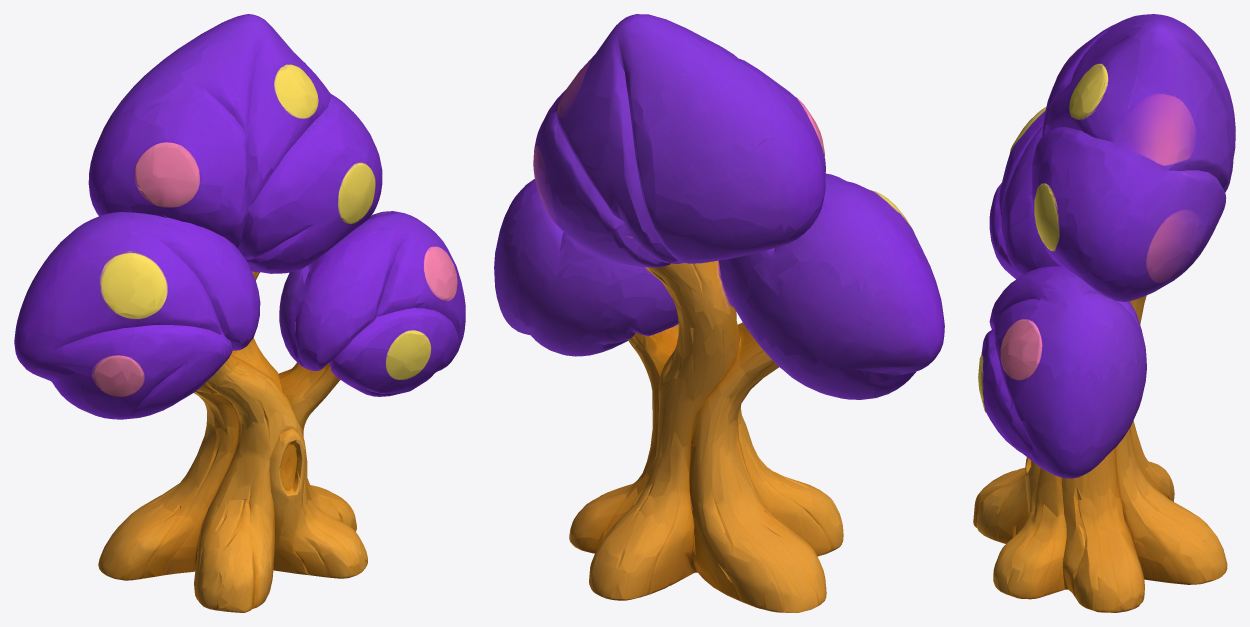
3 renders of one model, left to right at view 1: azimuth 30°, elevation 25°; view 2: azimuth 150°, elevation 25°; view 3: azimuth 270°, elevation 25°, orthographic. The views are drawn at different scales.
Parts seen in each view (by area): view 1: island-tree-v1-1.001; view 2: island-tree-v1-1.001; view 3: island-tree-v1-1.001.
Boxes of the visible parts, left/top/right/bottom form: island-tree-v1-1.001: left=14, top=14, right=465, bottom=612; island-tree-v1-1.001: left=494, top=14, right=944, bottom=612; island-tree-v1-1.001: left=973, top=14, right=1235, bottom=612.
Bounding box in the file's own units: 3.46 × 4 × 1.74.
1 material, 1 textured.
